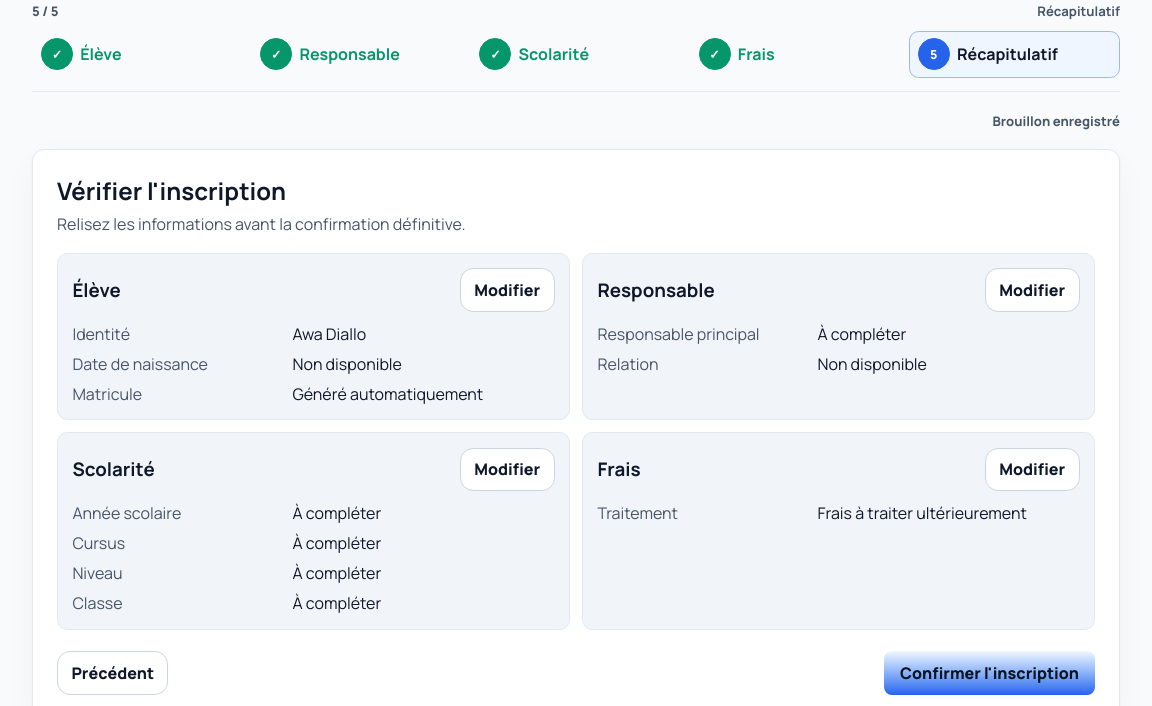
Scenario: admission wizard orchestration › affiche un échec retryable avec une action explicite
This screenshot has width=1152, height=706.
(page scrolled)
Check: the heading "Vérifier l'inscription" is shown, box [57,174,286,208]
Click the button "Confirmer l'inscription" at (990, 673), box [884,651,1095,695]
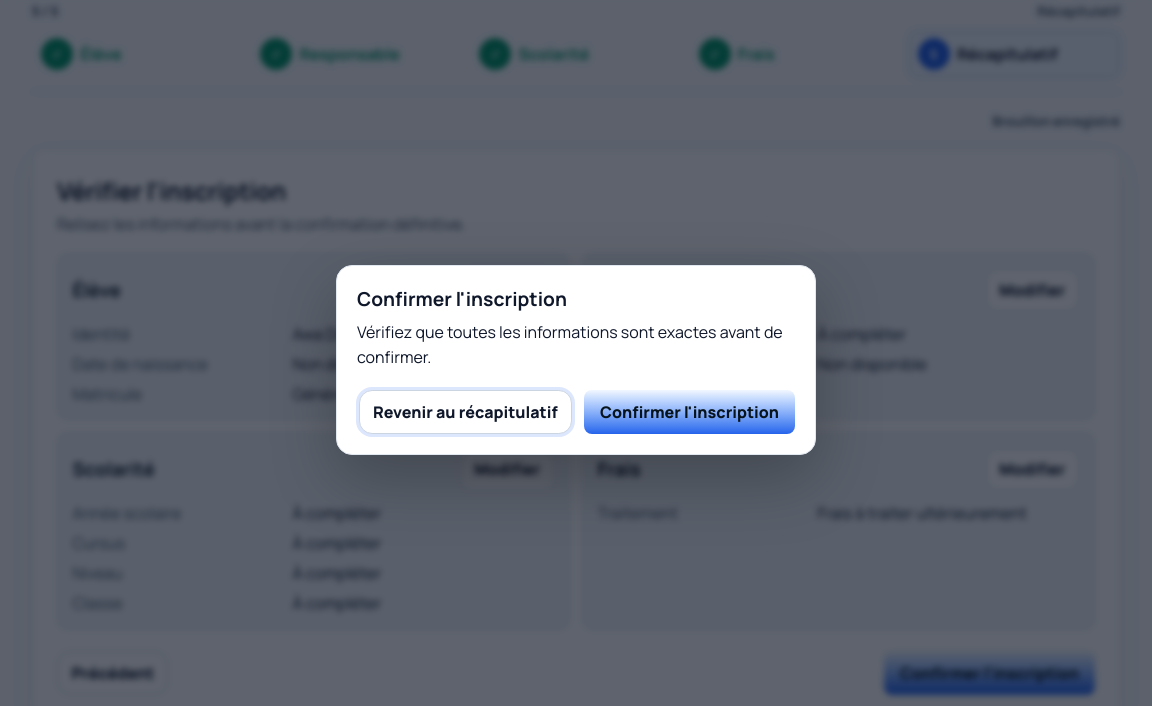
Click the button "Confirmer l'inscription" at (690, 412), box [584,390,795,434]
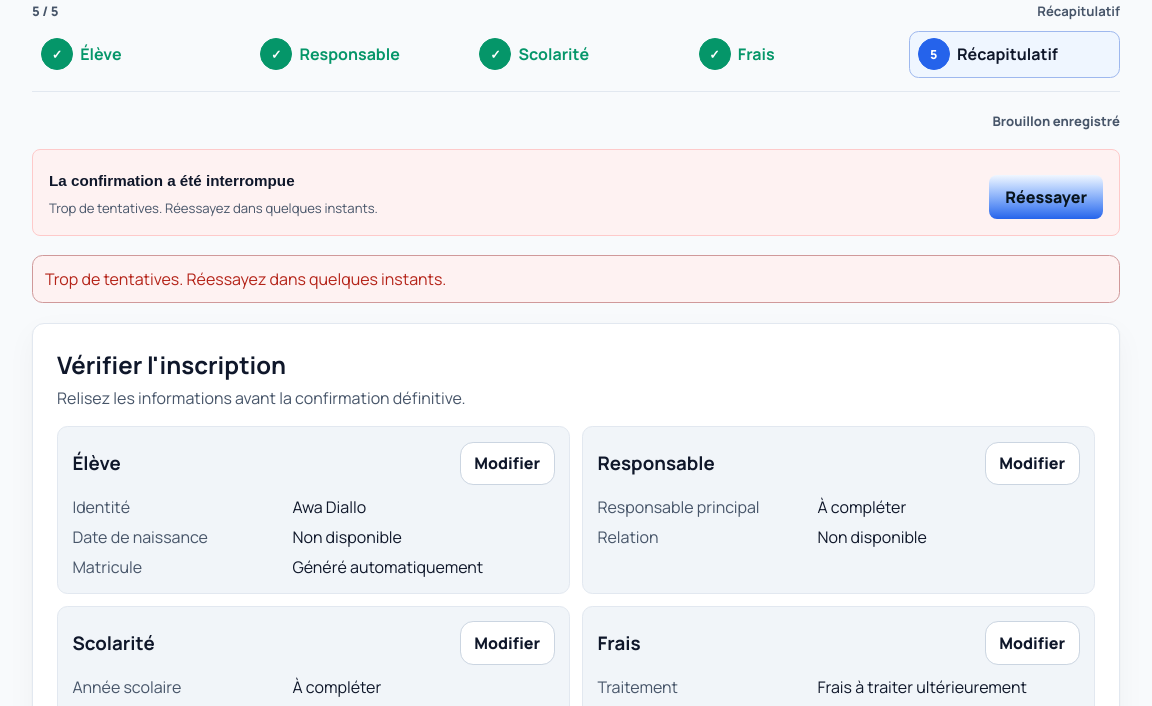
Check: the text "La confirmation a été interrompue" is shown, box [49,172,295,189]
Check: the button "Réessayer" is shown, box [989,175,1103,219]
